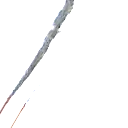crackTip: (1, 1, 76, 128)
